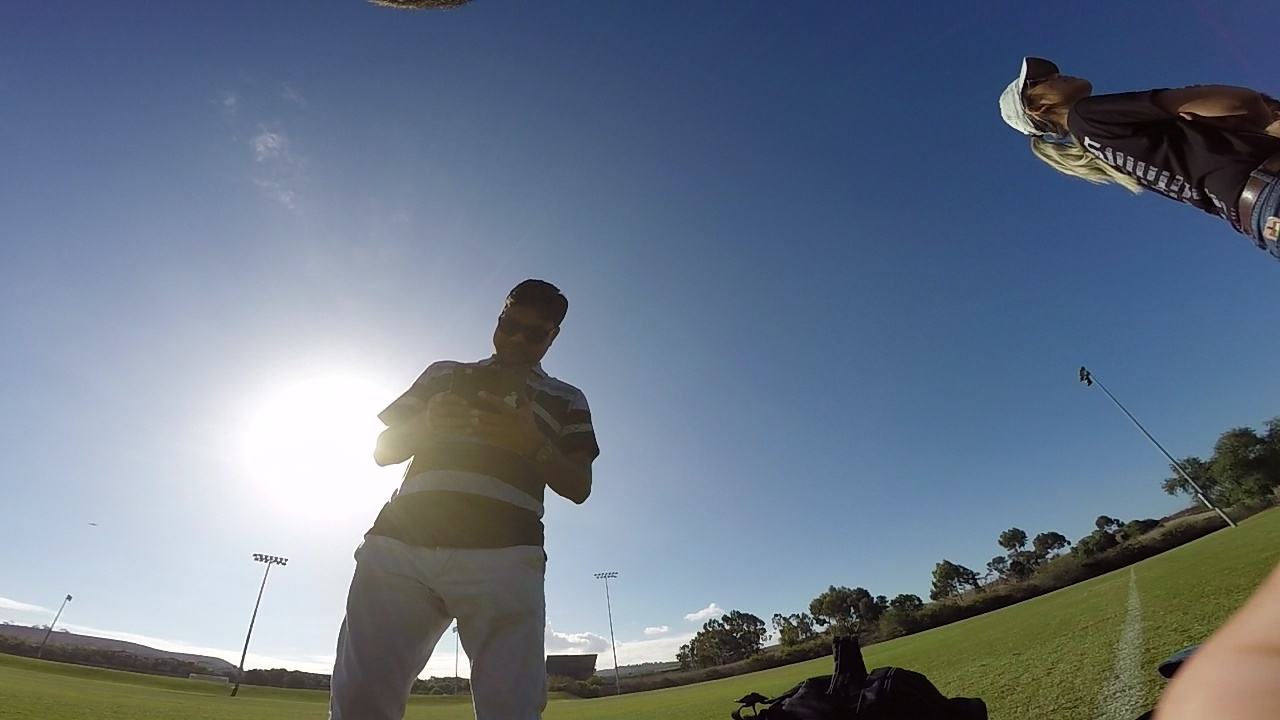person: (311, 283, 598, 710), (1003, 56, 1280, 262), (1151, 546, 1279, 711)
